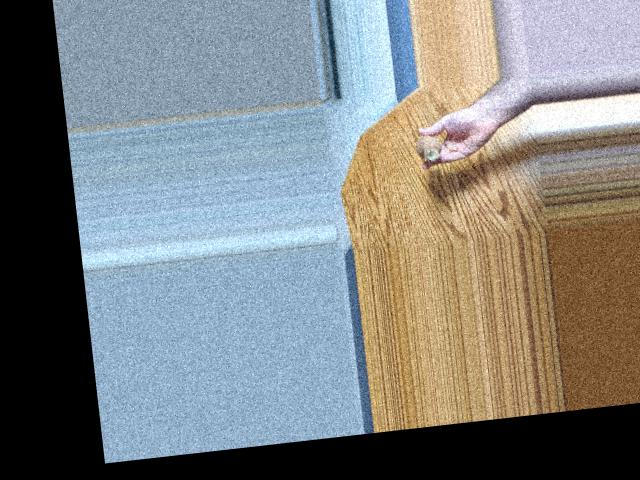sweet_potato: (412, 133, 442, 161)
